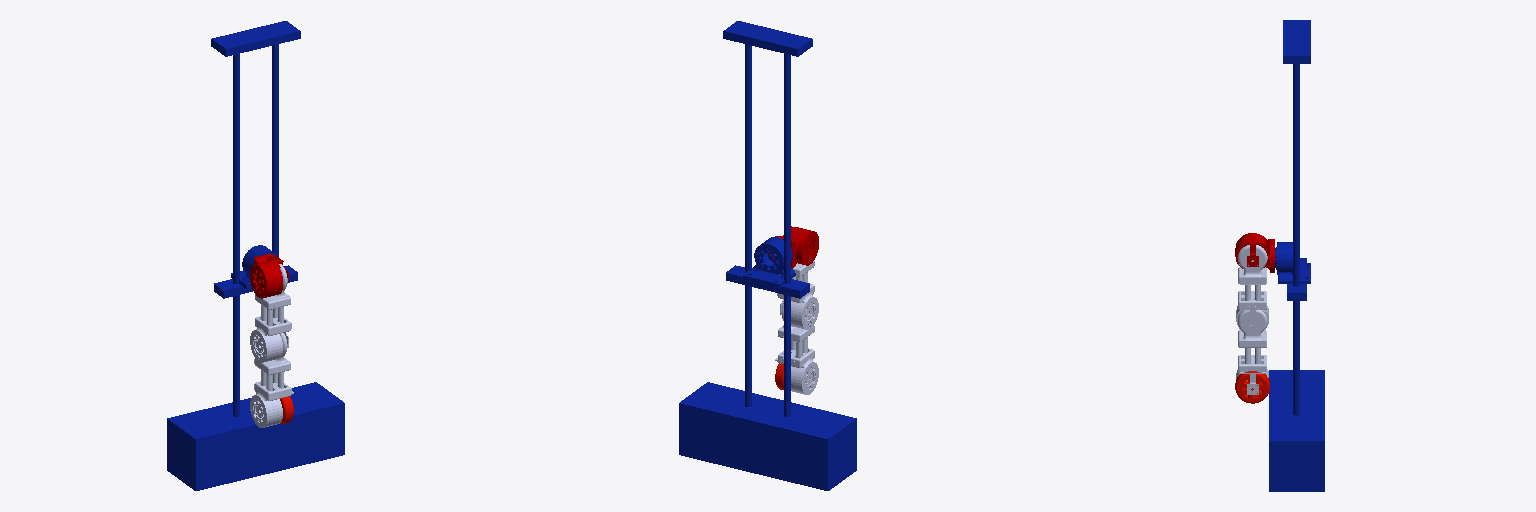
robot.urdf — modelo_robot:
<?xml version="1.0"?>
<!-- This URDF was automatically created by SolidWorks to URDF Exporter! Originally created by Stephen Brawner (brawner@gmail.com) 
     Commit Version: 1.6.0-4-g7f85cfe  Build Version: 1.6.7995.38578
     For more information, please see http://wiki.ros.org/sw_urdf_exporter -->
<robot name="modelo_robot">

  <!-- ==================== LINKS ==================== -->

  <link name="base_link">
    <inertial>
      <origin xyz="2.84278657919357E-07 0.0381609628951808 -0.583384358532695" rpy="0 0 0" />
      <mass value="27.4958200098479" />
      <inertia
        ixx="3.19246837396599"
        ixy="-2.9387581314034E-07"
        ixz="-1.49336568283813E-07"
        iyy="3.85193342661243"
        iyz="0.000127536129794205"
        izz="0.822510524082016" />
    </inertial>
    <visual>
      <origin xyz="0 0 0" rpy="0 0 0" />
      <geometry>
        <mesh filename="package://modelo_robot/meshes/base_link.STL" />
      </geometry>
      <material name="">
        <color rgba="0.0784313725490196 0.188235294117647 0.67843137254902 1" />
      </material>
    </visual>
    <collision>
      <origin xyz="0 0 0" rpy="0 0 0" />
      <geometry>
        <mesh filename="package://modelo_robot/meshes/base_link.STL" />
      </geometry>
    </collision>
  </link>

  <link name="link_1">
    <inertial>
      <origin xyz="-0.0325165171181241 -0.0228095991750975 0.0933784730370494" rpy="0 0 0" />
      <mass value="0.630405629231271" />
      <inertia
        ixx="0.00171214736442837"
        ixy="6.84720378617196E-06"
        ixz="0.000253705917521712"
        iyy="0.00139647864002034"
        iyz="-3.89846768950926E-06"
        izz="0.00114445516403779" />
    </inertial>
    <visual>
      <origin xyz="0 0 0" rpy="0 0 0" />
      <geometry>
        <mesh filename="package://modelo_robot/meshes/link_1.STL" />
      </geometry>
      <material name="">
        <color rgba="0.752941176470588 0 0 1" />
      </material>
    </visual>
    <collision>
      <origin xyz="0 0 0" rpy="0 0 0" />
      <geometry>
        <mesh filename="package://modelo_robot/meshes/link_1.STL" />
      </geometry>
    </collision>
  </link>

  <link name="link_2">
    <inertial>
      <origin xyz="0.147519778655831 -0.00175918176326004 0.0134297740610026" rpy="0 0 0" />
      <mass value="1.02784966524486" />
      <inertia
        ixx="0.00150699328584461"
        ixy="-1.48595740962868E-07"
        ixz="-0.000353830391658643"
        iyy="0.00219176202678705"
        iyz="-1.16760618557143E-07"
        izz="0.00254935156300818" />
    </inertial>
    <visual>
      <origin xyz="0 0 0" rpy="0 0 0" />
      <geometry>
        <mesh filename="package://modelo_robot/meshes/link_2.STL" />
      </geometry>
      <material name="">
        <color rgba="0.792156862745098 0.819607843137255 0.933333333333333 1" />
      </material>
    </visual>
    <collision>
      <origin xyz="0 0 0" rpy="0 0 0" />
      <geometry>
        <mesh filename="package://modelo_robot/meshes/link_2.STL" />
      </geometry>
    </collision>
  </link>

  <link name="link_3">
    <inertial>
      <origin xyz="0.146214860895162 -0.00163263989643377 0.0139778378588361" rpy="0 0 0" />
      <mass value="1.01380583468225" />
      <inertia
        ixx="0.00148204775175856"
        ixy="-1.48622066406727E-07"
        ixz="-0.000343405070858905"
        iyy="0.00216452496496394"
        iyz="-1.16895392395932E-07"
        izz="0.00254496567193716" />
    </inertial>
    <visual>
      <origin xyz="0 0 0" rpy="0 0 0" />
      <geometry>
        <mesh filename="package://modelo_robot/meshes/link_3.STL" />
      </geometry>
      <material name="">
        <color rgba="0.792156862745098 0.819607843137255 0.933333333333333 1" />
      </material>
    </visual>
    <collision>
      <origin xyz="0 0 0" rpy="0 0 0" />
      <geometry>
        <mesh filename="package://modelo_robot/meshes/link_3.STL" />
      </geometry>
    </collision>
  </link>

  <link name="link_4">
    <inertial>
      <origin xyz="-0.000654160686675481 -0.00162488170749527 -0.0227999999999997" rpy="0 0 0" />
      <mass value="0.373170941633092" />
      <inertia
        ixx="0.000451724736326124"
        ixy="-4.63422396718974E-20"
        ixz="8.31354205258362E-20"
        iyy="0.000451724736326124"
        iyz="-3.90374832851125E-18"
        izz="0.000808988246490583" />
    </inertial>
    <visual>
      <origin xyz="0 0 0" rpy="0 0 0" />
      <geometry>
        <mesh filename="package://modelo_robot/meshes/link_4.STL" />
      </geometry>
      <material name="">
        <color rgba="0.890196078431372 0.0784313725490196 0 1" />
      </material>
    </visual>
    <collision>
      <origin xyz="0 0 0" rpy="0 0 0" />
      <geometry>
        <mesh filename="package://modelo_robot/meshes/link_4.STL" />
      </geometry>
    </collision>
  </link>

  <!-- ==================== JOINTS ==================== -->

  <joint name="joint_1" type="revolute">
    <origin xyz="0 0 0" rpy="1.5708 0 0" />
    <parent link="base_link" />
    <child link="link_1" />
    <axis xyz="0 0 -1" />
    <limit lower="-1.5708" upper="1.5708" effort="10" velocity="10" />
  </joint>

  <joint name="joint_2" type="revolute">
    <origin xyz="-0.0127 -0.023319 0.11983" rpy="1.5708 0 -1.5708" />
    <parent link="link_1" />
    <child link="link_2" />
    <axis xyz="0 0 1" />
    <limit lower="-1.5708" upper="1.5708" effort="10" velocity="10" />
  </joint>

  <joint name="joint_3" type="revolute">
    <origin xyz="0.25067 -0.00012665 0" rpy="0 0 0" />
    <parent link="link_2" />
    <child link="link_3" />
    <axis xyz="0 0 1" />
    <limit lower="-1.5708" upper="1.5708" effort="10" velocity="10" />
  </joint>

  <joint name="joint_4" type="revolute">
    <origin xyz="0.25 0 0.00025" rpy="0 0 0" />
    <parent link="link_3" />
    <child link="link_4" />
    <axis xyz="0 0 -1" />
    <limit lower="-1.5708" upper="1.5708" effort="10" velocity="10" />
  </joint>

  <!-- ==================== ROS2 CONTROL ==================== -->
  <!--
    Plugin correcto para Ignition Gazebo 6 (Fortress) con ros-humble-gz-ros2-control.
    Confirmado via:
      - /opt/ros/humble/share/gz_ros2_control/gz_hardware_plugins.xml
      - nm -D libign_ros2_control-system.so -> gz_ros2_control::GazeboSimROS2ControlPlugin
      - Documentacion oficial: control.ros.org/humble/doc/gz_ros2_control
  -->
  <ros2_control name="GazeboSimSystem" type="system">
    <hardware>
      <plugin>gz_ros2_control/GazeboSimSystem</plugin>
    </hardware>

    <joint name="joint_1">
      <command_interface name="position">
        <param name="min">-1.5708</param>
        <param name="max">1.5708</param>
      </command_interface>
      <state_interface name="position"/>
      <state_interface name="velocity"/>
    </joint>

    <joint name="joint_2">
      <command_interface name="position">
        <param name="min">-1.5708</param>
        <param name="max">1.5708</param>
      </command_interface>
      <state_interface name="position"/>
      <state_interface name="velocity"/>
    </joint>

    <joint name="joint_3">
      <command_interface name="position">
        <param name="min">-1.5708</param>
        <param name="max">1.5708</param>
      </command_interface>
      <state_interface name="position"/>
      <state_interface name="velocity"/>
    </joint>

    <joint name="joint_4">
      <command_interface name="position">
        <param name="min">-1.5708</param>
        <param name="max">1.5708</param>
      </command_interface>
      <state_interface name="position"/>
      <state_interface name="velocity"/>
    </joint>
  </ros2_control>

  <!-- ==================== GAZEBO PLUGIN gz_ros2_control ==================== -->
  <!--
    IMPORTANTE: <parameters> contiene el placeholder RUTA_CONTROLLERS_YAML.
    El launch file (gazebo.launch.py) lo reemplaza en tiempo de ejecucion con
    la ruta absoluta real usando Python:
      robot_desc = robot_desc.replace('RUTA_CONTROLLERS_YAML', controllers_yaml)
    NO editar manualmente este placeholder.

    filename="gz_ros2_control-system"
      -> Sin prefijo "lib" ni extension ".so". Formato requerido por Ignition.
    name="gz_ros2_control::GazeboSimROS2ControlPlugin"
      -> Clase confirmada con: nm -D libign_ros2_control-system.so
  -->
  <gazebo>
    <plugin filename="gz_ros2_control-system"
            name="gz_ros2_control::GazeboSimROS2ControlPlugin">
      <robot_param>robot_description</robot_param>
      <robot_param_node>robot_state_publisher</robot_param_node>
      <parameters>RUTA_CONTROLLERS_YAML</parameters>
    </plugin>
  </gazebo>

  <!-- ==================== GAZEBO MATERIALES ==================== -->
  <!--
    Nota: los tags Gazebo/Blue etc. son de Gazebo Classic (OGRE).
    En Ignition Gazebo 6 se ignoran silenciosamente.
    Los colores provienen del tag <color rgba> en <visual> de cada link.
  -->
  <gazebo reference="base_link">
    <material>Gazebo/Blue</material>
  </gazebo>

  <gazebo reference="link_1">
    <material>Gazebo/Red</material>
  </gazebo>

  <gazebo reference="link_2">
    <material>Gazebo/Grey</material>
  </gazebo>

  <gazebo reference="link_3">
    <material>Gazebo/Grey</material>
  </gazebo>

  <gazebo reference="link_4">
    <material>Gazebo/Orange</material>
  </gazebo>

</robot>

--- Render facts (derived) ---
3 views of the same robot in one strip: view 1: azimuth 30°, elevation 25°; view 2: azimuth 150°, elevation 25°; view 3: azimuth 270°, elevation 25° (orthographic).
Robot: modelo_robot — 5 links, 4 joints (4 revolute); root link base_link; default pose: all joints at 0.
Links seen in each view (by area): view 1: base_link, link_2, link_3, link_1; view 2: base_link, link_3, link_2, link_1; view 3: base_link, link_2, link_3, link_1, link_4.
Link boxes in pixels (bbox=[...]): base_link: bbox=[167, 21, 344, 490]; link_2: bbox=[250, 264, 291, 362]; link_3: bbox=[250, 333, 293, 427]; link_1: bbox=[250, 254, 288, 298]; base_link: bbox=[679, 21, 856, 490]; link_3: bbox=[775, 303, 818, 394]; link_2: bbox=[777, 261, 818, 329]; link_1: bbox=[767, 226, 818, 268]; base_link: bbox=[1269, 20, 1324, 491]; link_2: bbox=[1236, 245, 1268, 330]; link_3: bbox=[1236, 310, 1268, 394]; link_1: bbox=[1235, 233, 1274, 272]; link_4: bbox=[1235, 371, 1269, 403].
Size in the robot's own frame: 0.6 by 0.319 by 1.64 metres.
Meshes: 5 distinct files referenced, 5 mesh visuals loaded (5 binary STL).
